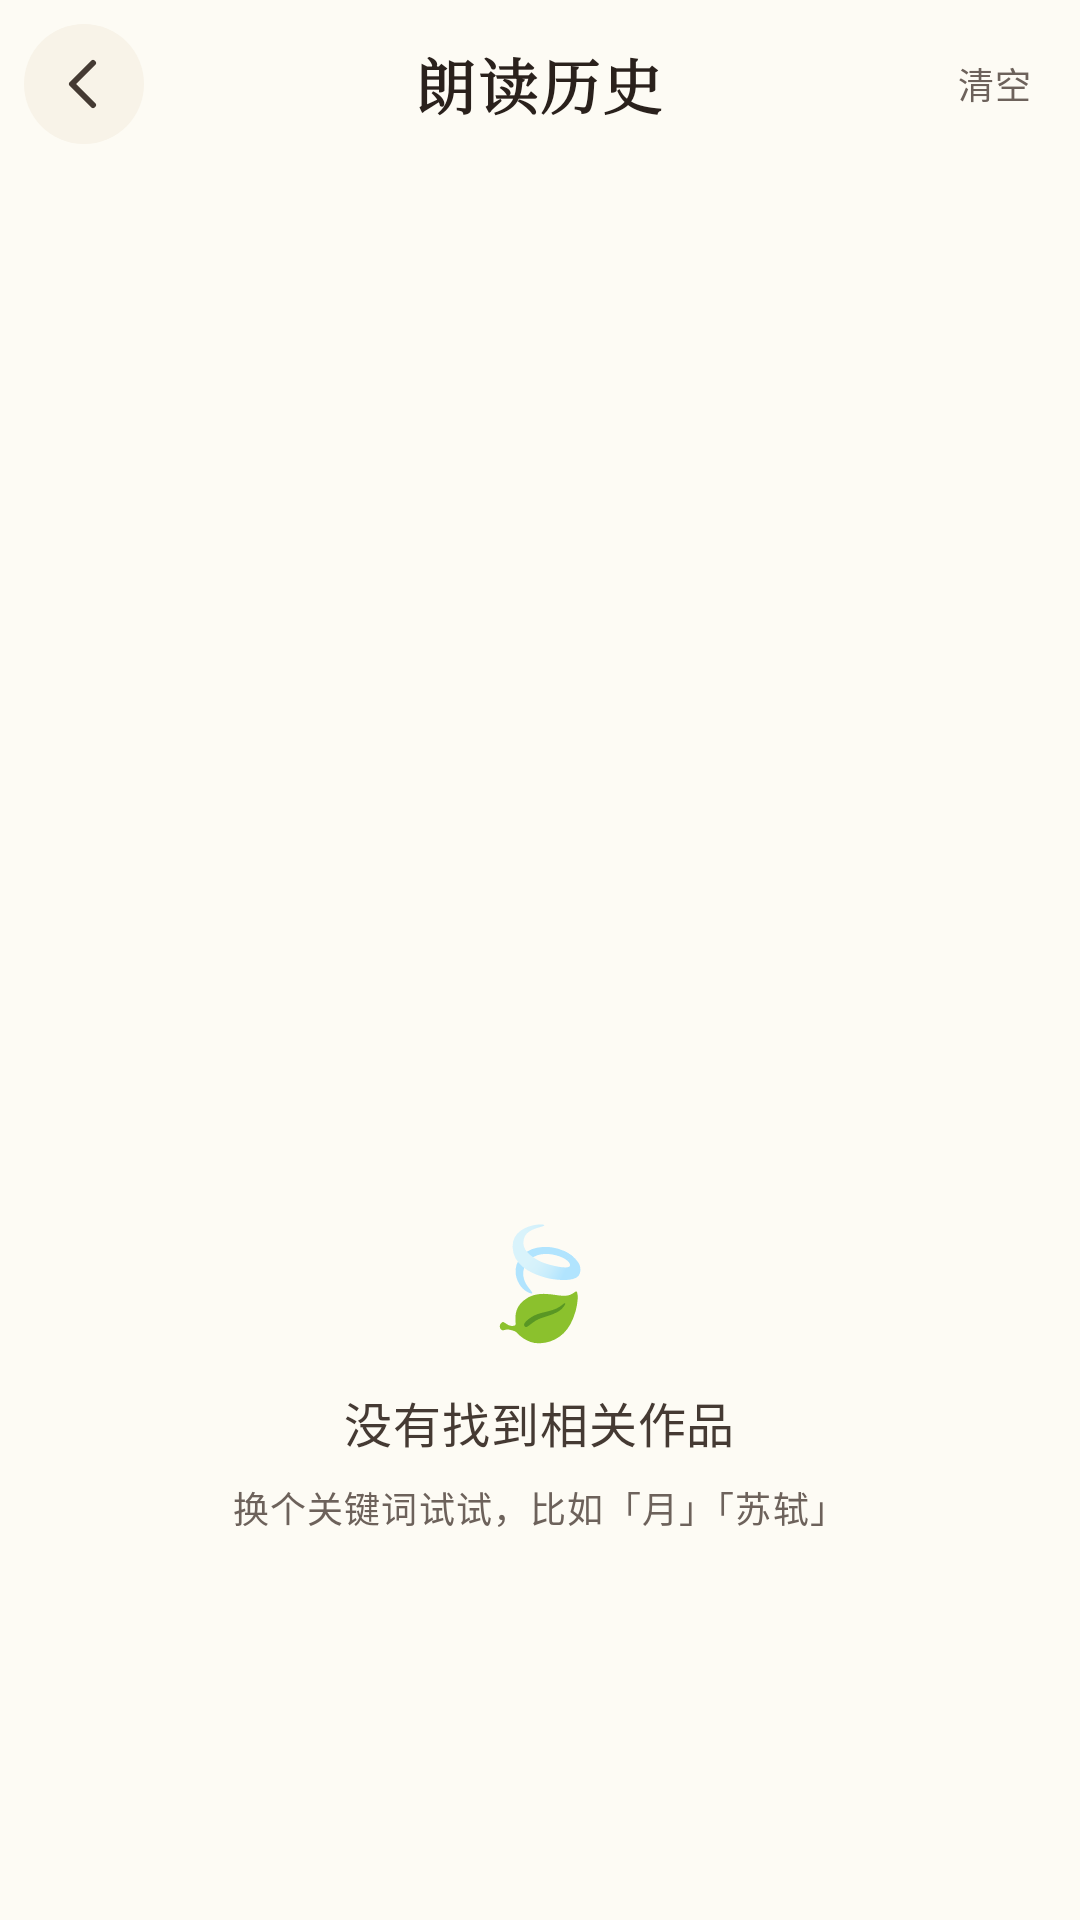

Named icons in this screenshot (1080×1920) and their centers, point (x, y):
返回: point (84, 84)
